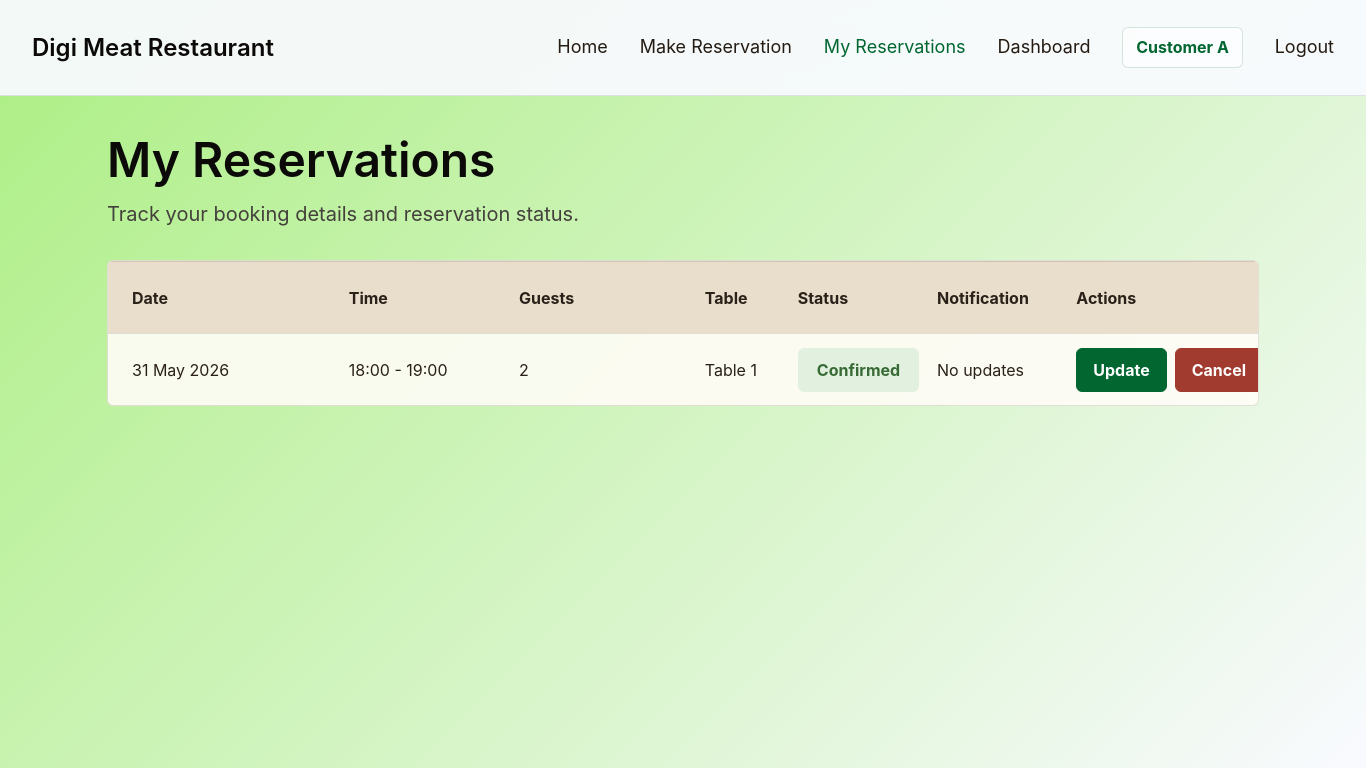
Test: customer reservation status view › customer can cancel one of their existing reservations after confirmation
Click the button "Cancel": click(1219, 370) [1175,348,1263,392]
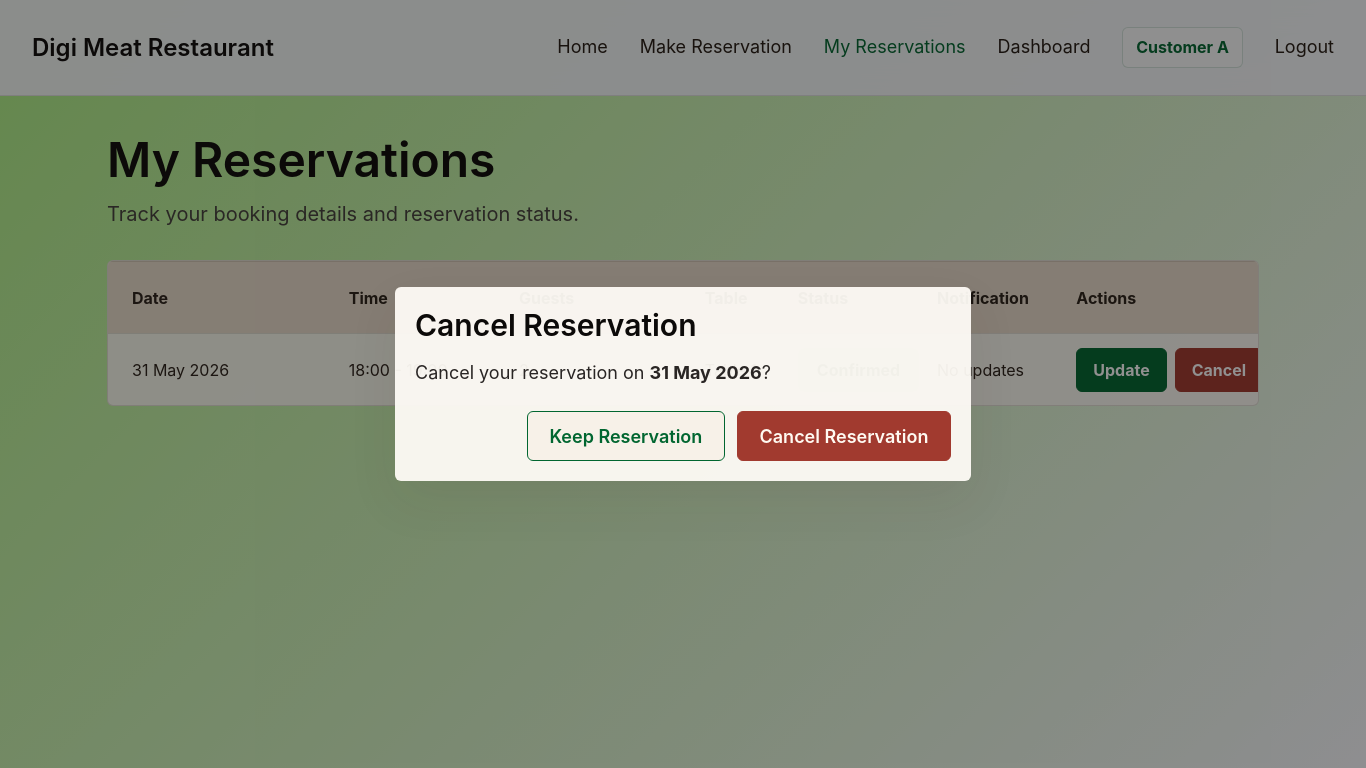
Result: the text "Cancel your reservation on" is shown at [415,362,644,383]
Click the button "Cancel Reservation": click(844, 436) [737,411,951,461]
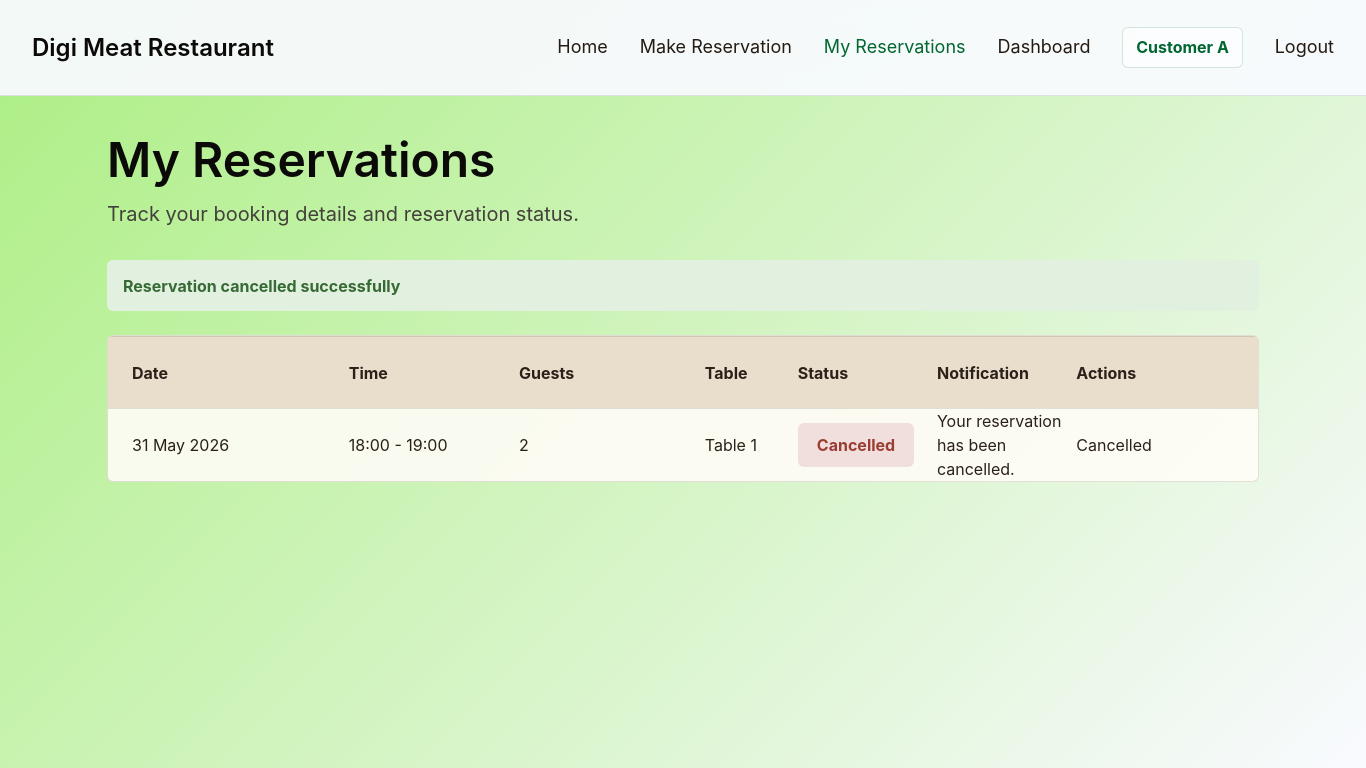
Result: the text "Reservation cancelled successfully" is shown at [107,260,1259,311]
Result: the text "cancelled" is shown at [123,276,400,296]
Result: the text "Your reservation has been cancelled." is shown at [937,409,1076,481]
